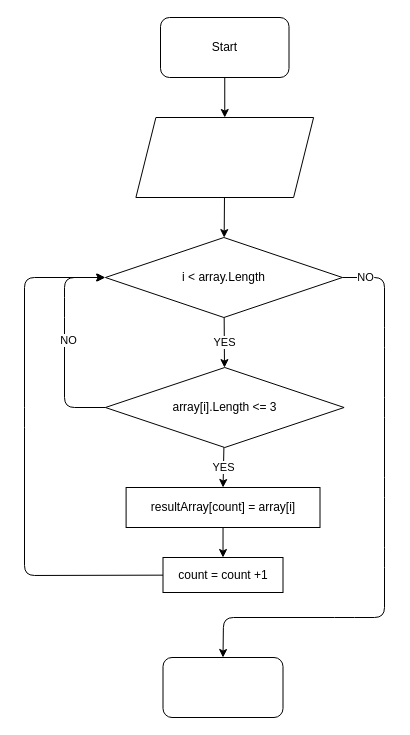
Some shapes in this 410 by 735 pixel diagram are drawn without their labels. Here are the shapes that lost their labels. From the top down, the centre of each, then its label:
(224,157): array[] resultArray[] i = 0 count = 0
(222,687): End
